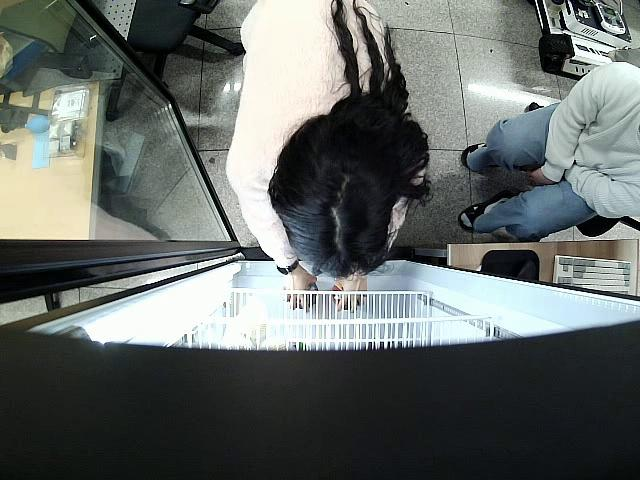00_hand: (283, 272, 316, 311), (336, 276, 365, 311)
08_buldak_S: (331, 282, 357, 312), (289, 284, 317, 310)
